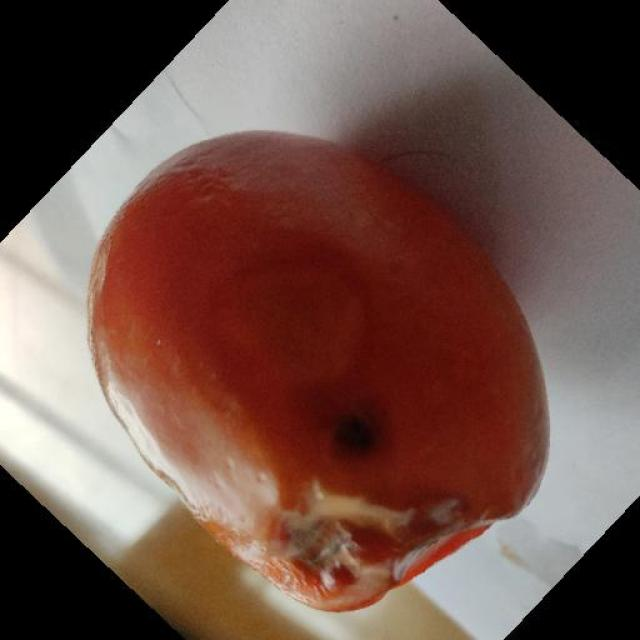Stale_tomato: (99, 155, 523, 595)
